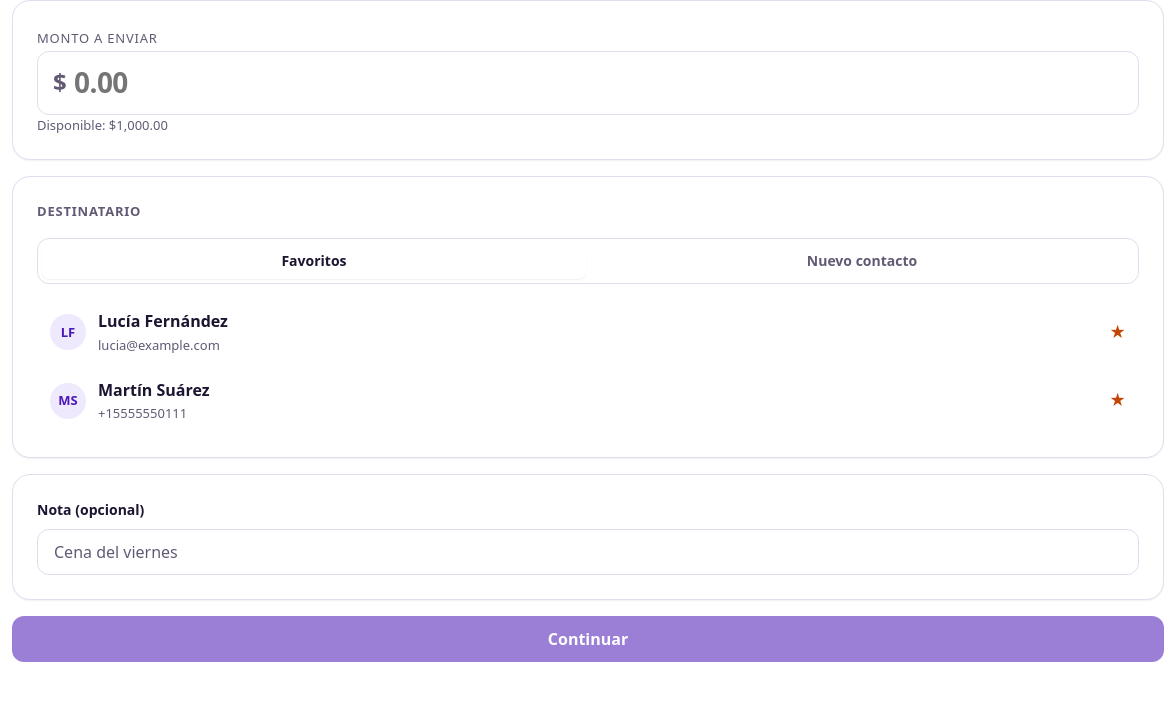
ComposeStep › blocks a zero amount
Click the button "LF Lucía Fernández lucia@example.com ★".
click(68, 332)  # box left=37, top=300, right=1139, bottom=365
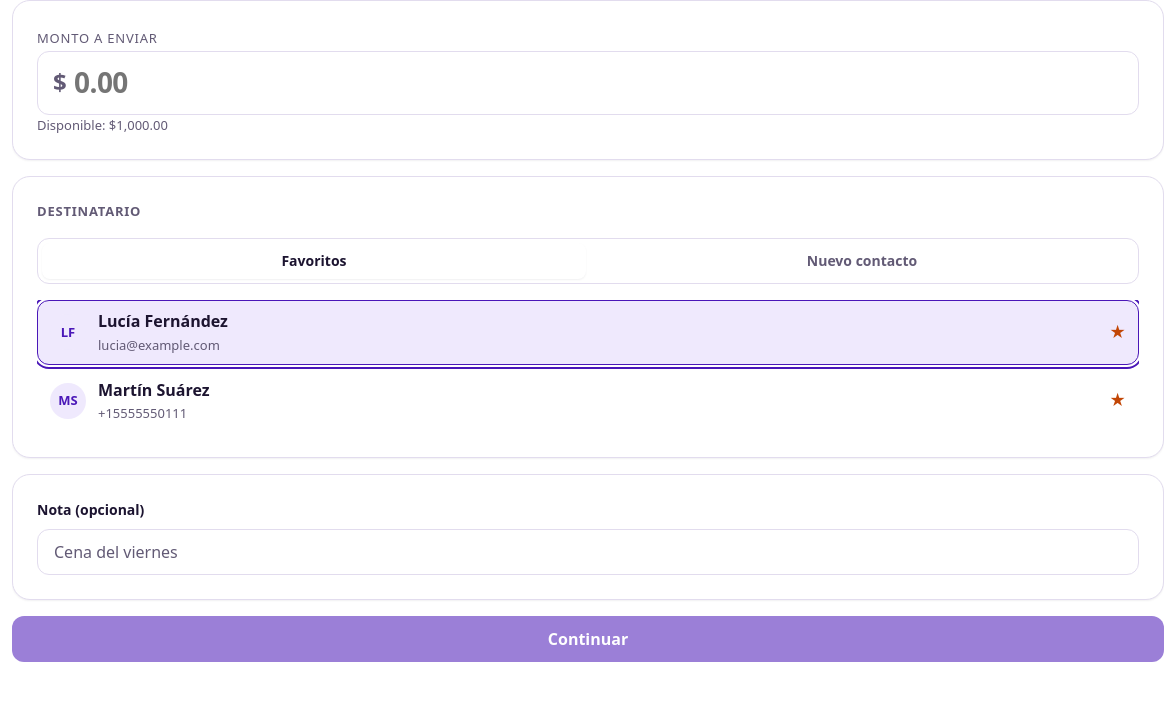
Type "0" into the field labelled "Monto a enviar".
click(588, 83); type("0")  # box left=37, top=51, right=1139, bottom=115
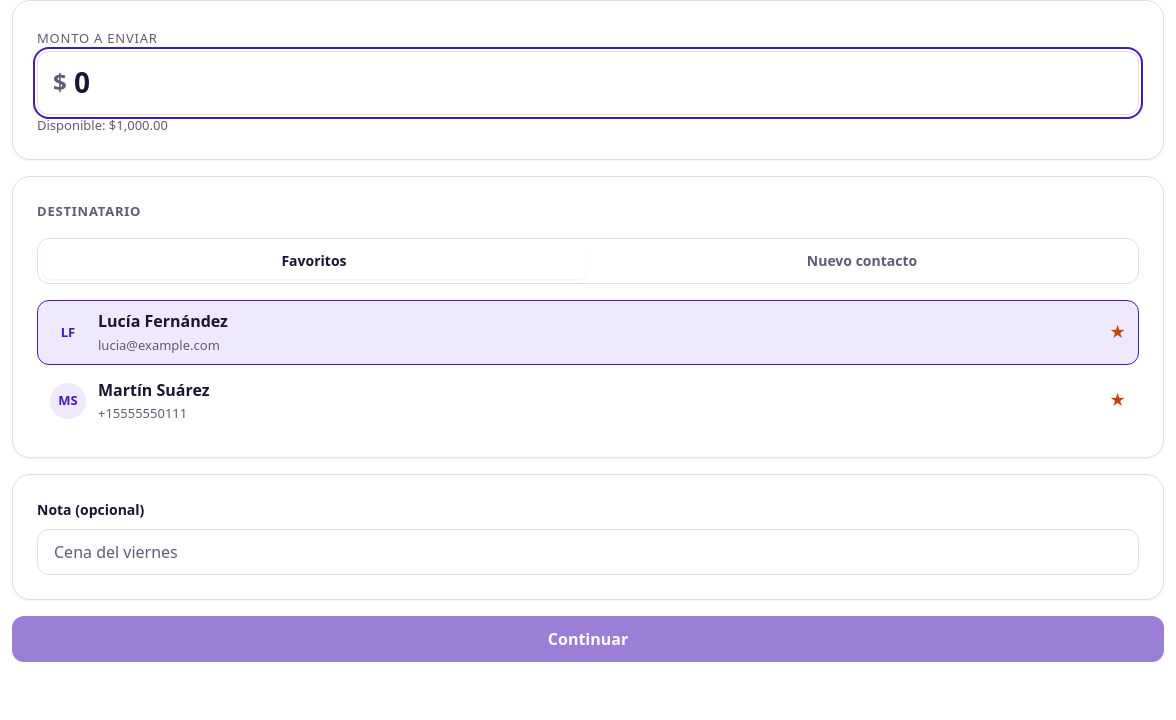
Press Tab
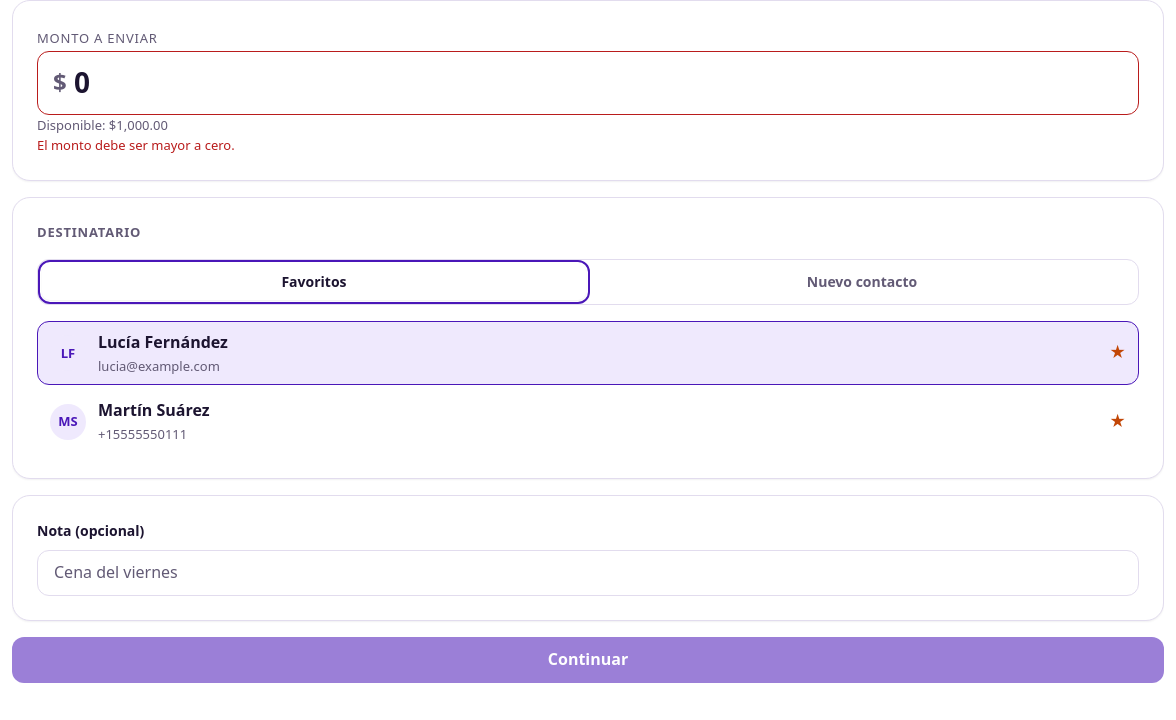
Expected: the button with test id "continue" is disabled, left=12, top=637, right=1164, bottom=683
Expected: the message reads "El monto debe ser mayor a cero.", left=37, top=136, right=235, bottom=154
